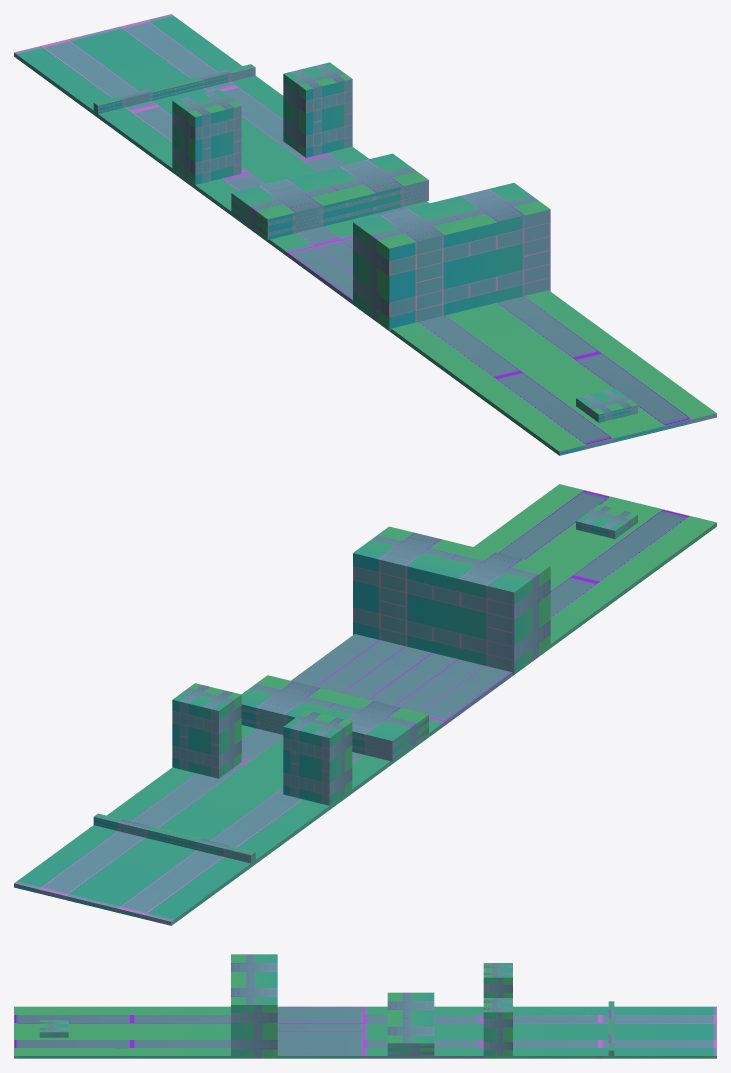
File: stage0.obj
3 views of the same model, one above another, from view 1: azimuth 30°, elevation 25°; view 2: azimuth 150°, elevation 25°; view 3: azimuth 270°, elevation 25° (orthographic). The views are drawn at different scales.
Visible parts, largest first — view 1: 立方体; view 2: 立方体; view 3: 立方体.
Boxes of the visible parts, x1,y1,x2,y2 form: 立方体: [14, 14, 716, 455]; 立方体: [14, 484, 716, 925]; 立方体: [14, 954, 716, 1058].
Bounding box in the file's own units: 41 × 20.5 × 240.
